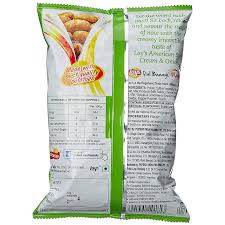lays-small: (38, 3, 187, 222)
